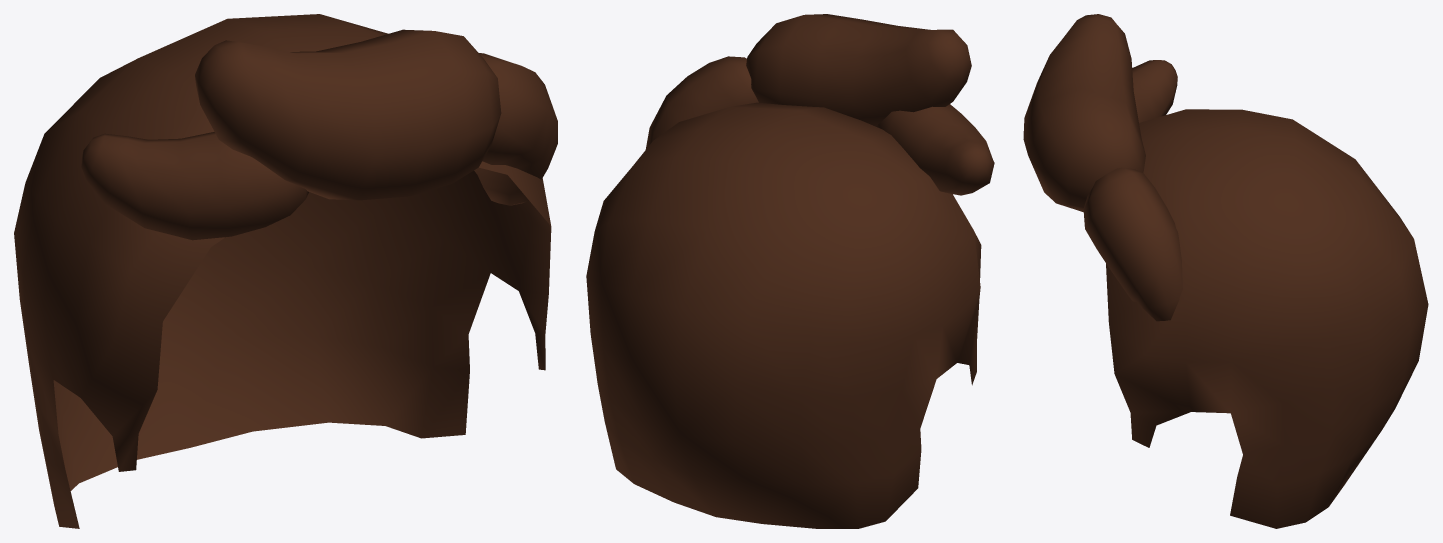
3 views of the same model, side by side, from view 1: azimuth 30°, elevation 25°; view 2: azimuth 150°, elevation 25°; view 3: azimuth 270°, elevation 25° (orthographic). The views are drawn at different scales.
Parts seen in each view (by area): view 1: hairShortSideFling; view 2: hairShortSideFling; view 3: hairShortSideFling.
Boxes of the visible parts, x1=… form: hairShortSideFling: x1=14, y1=14, x2=557, y2=528; hairShortSideFling: x1=586, y1=14, x2=994, y2=528; hairShortSideFling: x1=1023, y1=14, x2=1428, y2=528.
Size of the model in its own units: 0.4743 by 0.5487 by 0.4973.
1 material, 1 textured.
